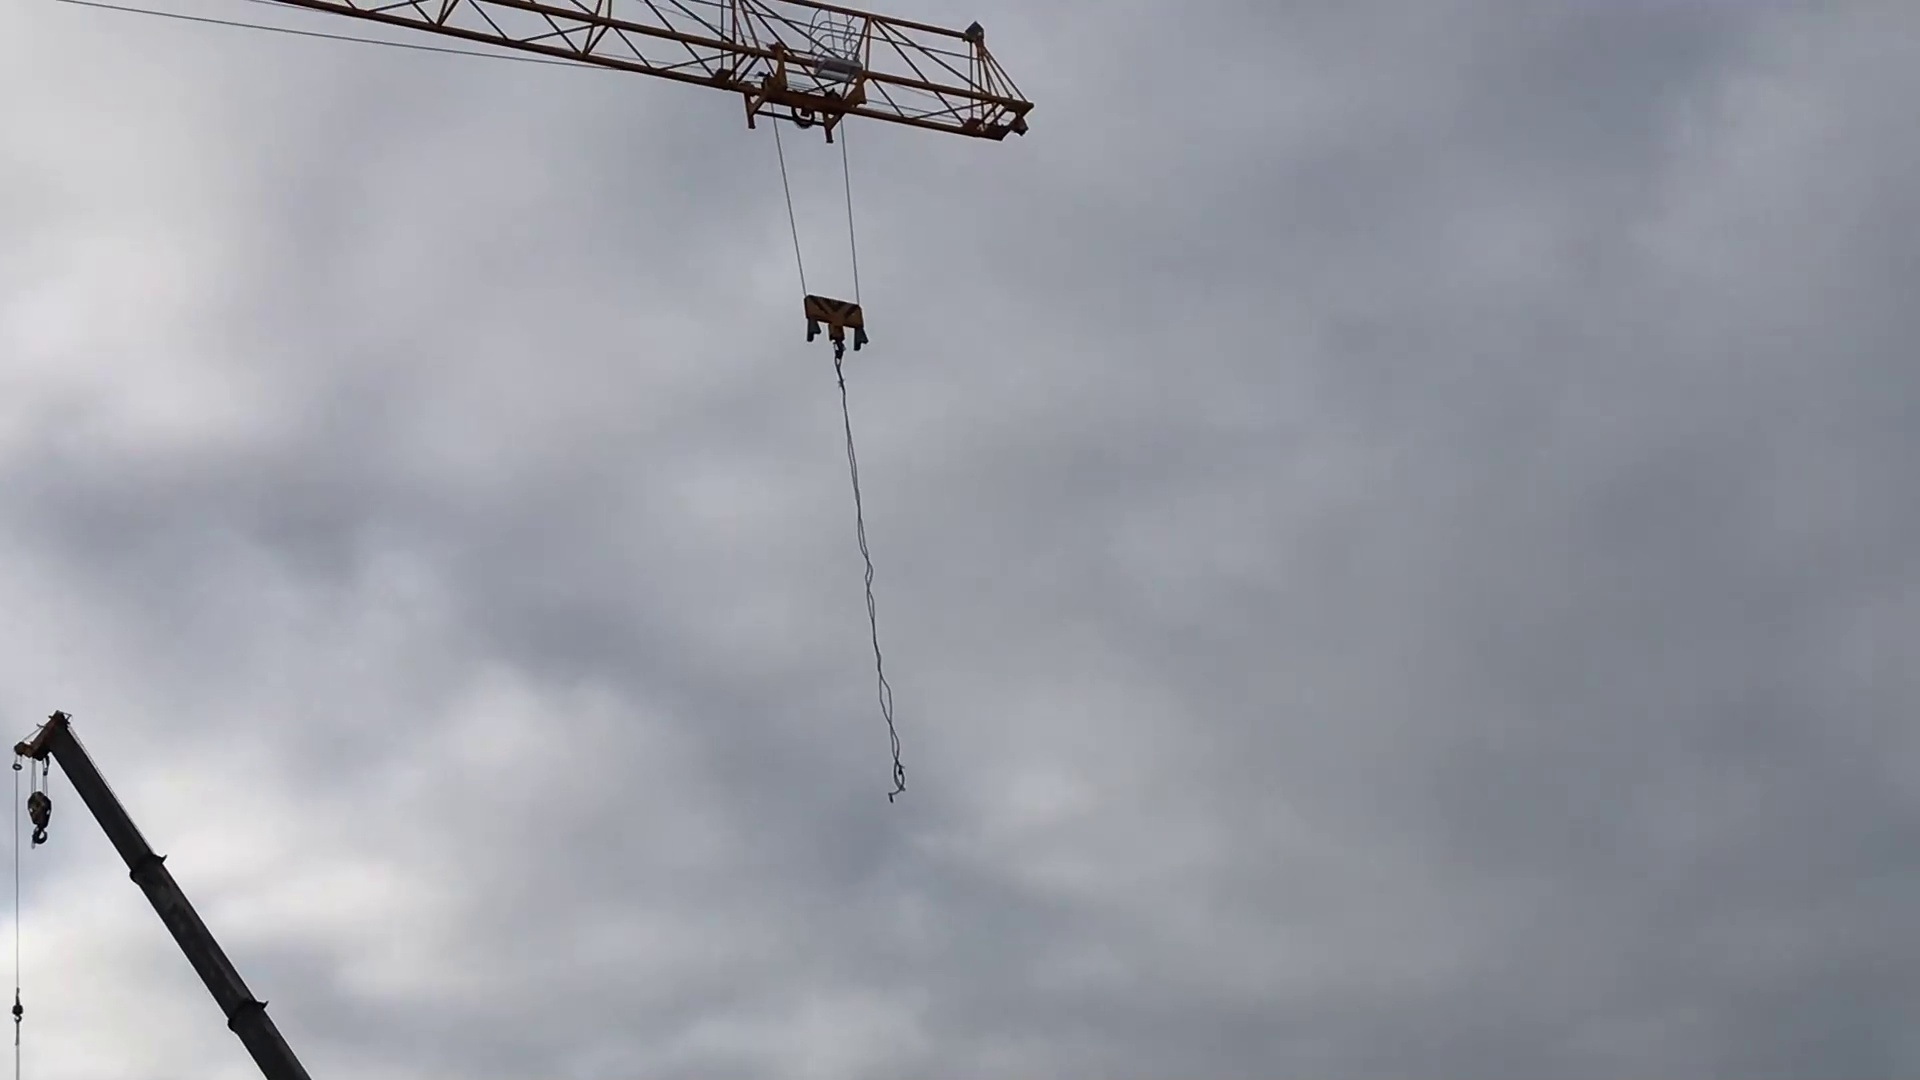hook: (796, 287, 873, 363)
